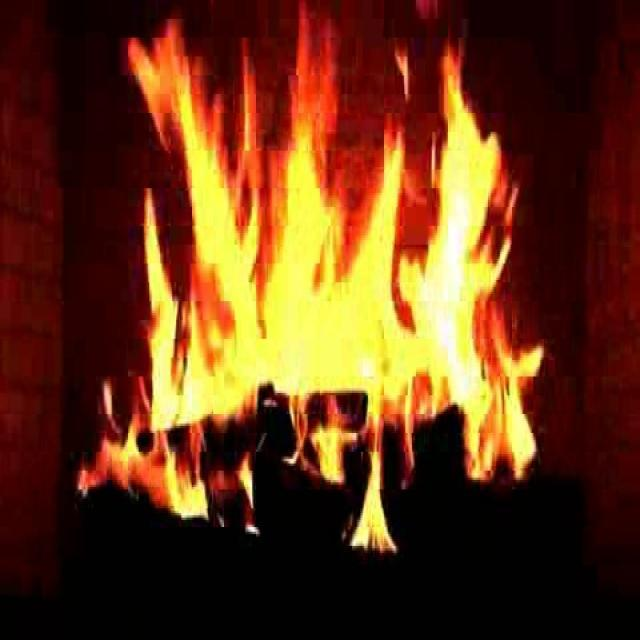Fire: (130, 24, 536, 511)
